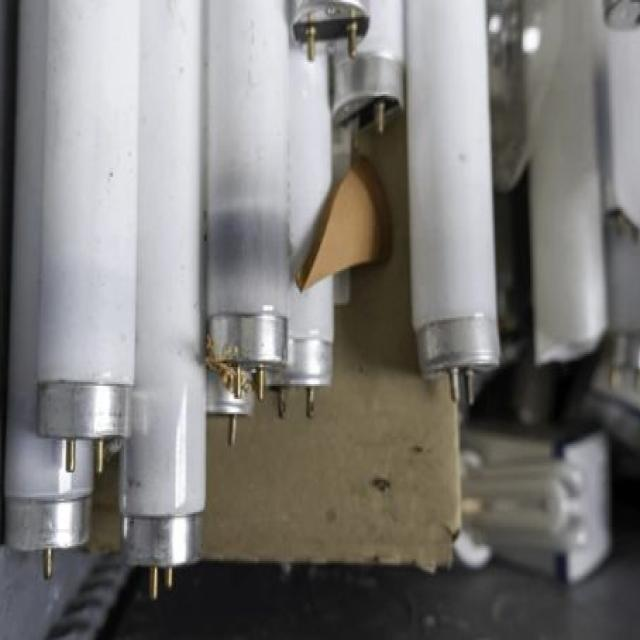electronic: (0, 0, 639, 599), (402, 0, 502, 401)
